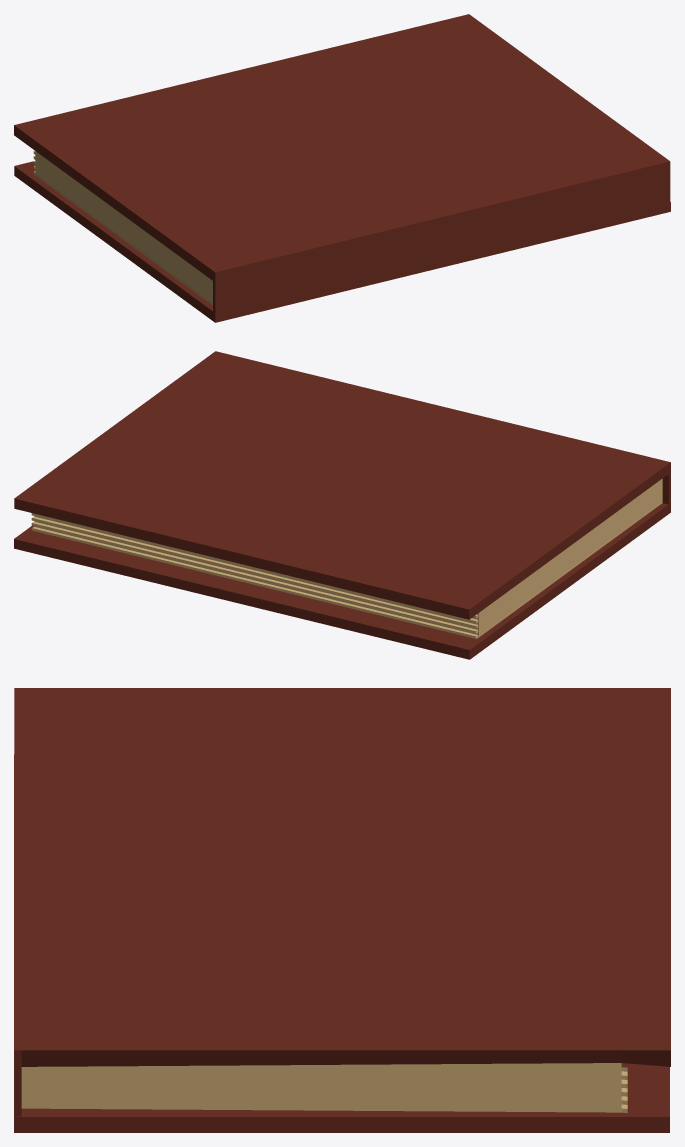
File: дневник маленькой принцессы.fbx
The picture shows the model from 3 angles, top to bottom: view 1: azimuth 30°, elevation 25°; view 2: azimuth 150°, elevation 25°; view 3: azimuth 270°, elevation 25°; orthographic projection. The views are drawn at different scales.
Parts seen in each view (by area): view 1: Cube; view 2: Cube; view 3: Cube.
Part boxes in pixels (x1,y1,x2,y2): Cube: (14, 14, 670, 322); Cube: (14, 351, 670, 659); Cube: (14, 688, 670, 1132).
Size of the model in its own units: 358 by 37.83 by 274.
